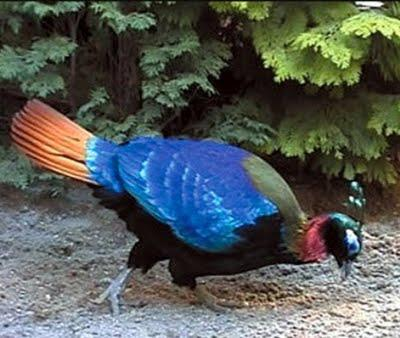bird: (12, 93, 369, 314)
